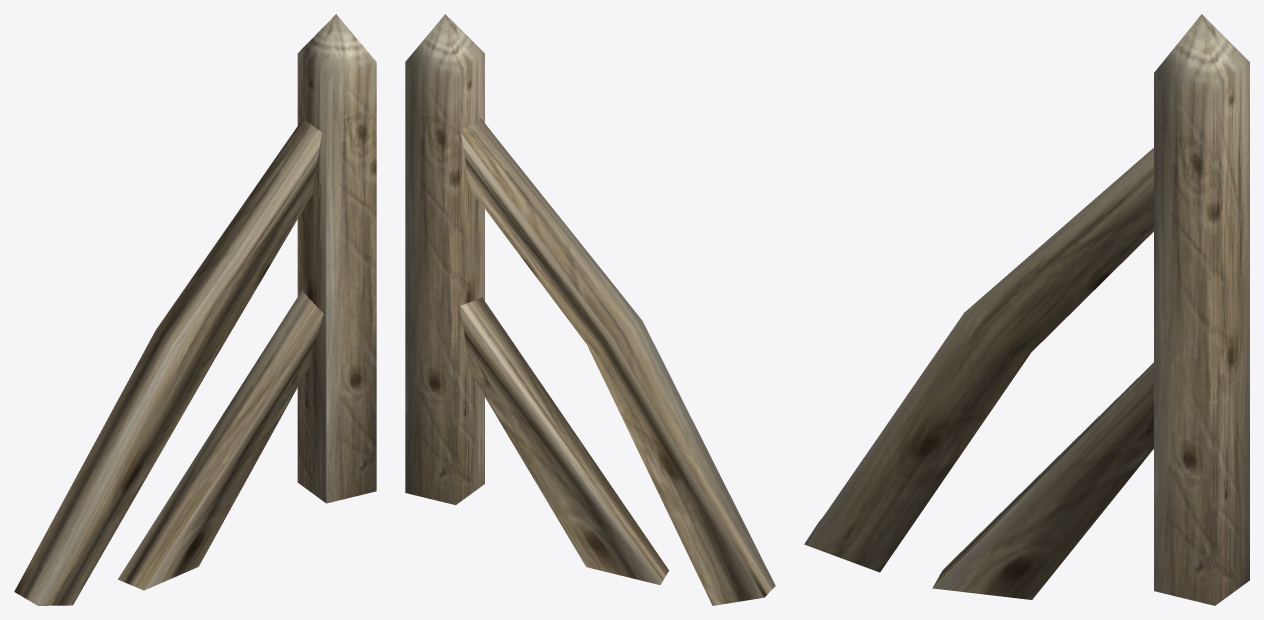
The model's file is westfallfenceend.glb.
The picture shows the model from 3 angles, left to right: view 1: azimuth 30°, elevation 25°; view 2: azimuth 150°, elevation 25°; view 3: azimuth 330°, elevation 25°; orthographic projection. The views are drawn at different scales.
Size of the model in its own units: 1.88 by 2.74 by 0.3142.
Materials: 1 (1 with a texture image).
